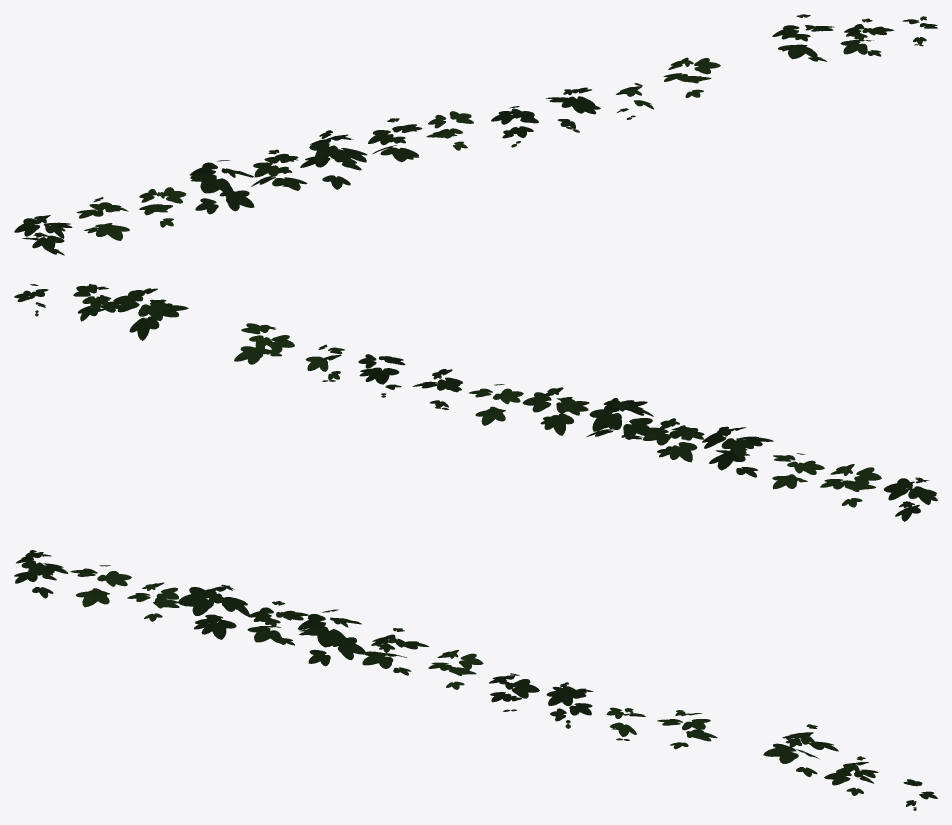
File: ROW_15_SEG2_foliage.dae
3 renders of one model, top to bottom at view 1: azimuth 30°, elevation 25°; view 2: azimuth 150°, elevation 25°; view 3: azimuth 330°, elevation 25°, orthographic.
Visible parts, largest first — view 1: ROW_15_SEG2_foliage; view 2: ROW_15_SEG2_foliage; view 3: ROW_15_SEG2_foliage.
Part boxes in pixels (x1,y1,x2,y2): ROW_15_SEG2_foliage: (14,14,937,255); ROW_15_SEG2_foliage: (14,284,937,521); ROW_15_SEG2_foliage: (14,550,937,810).
Bounding box in the file's own units: 4.81 × 0.3479 × 0.2785.
